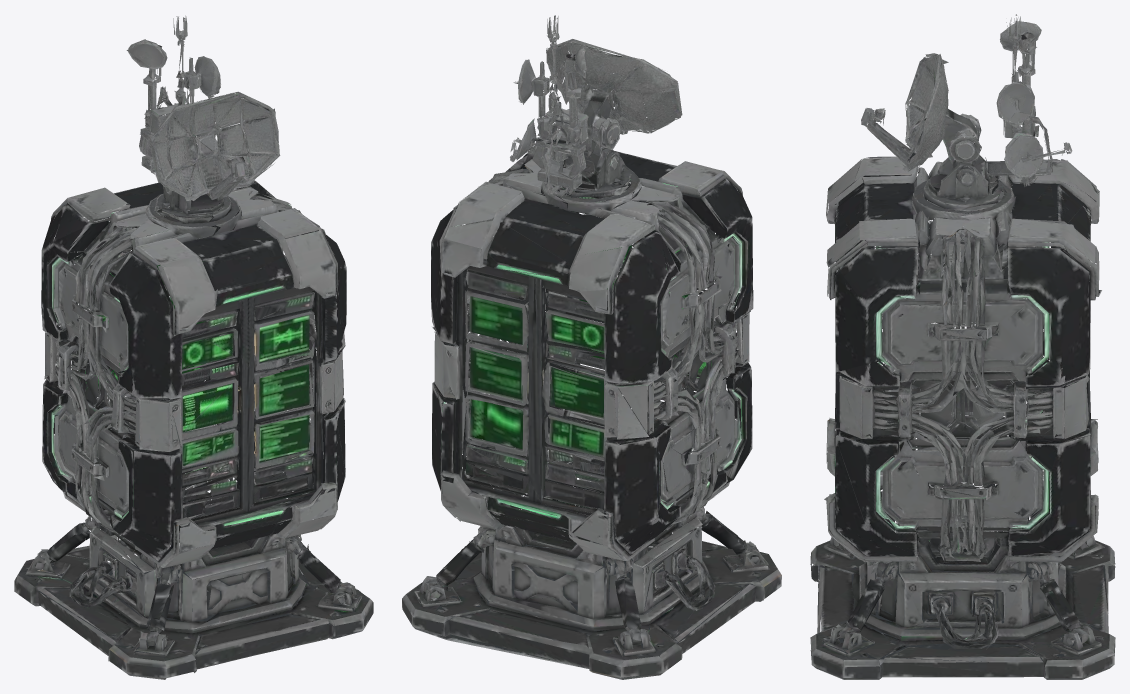
File: tower_uplink.glb
The picture shows the model from 3 angles, left to right: view 1: azimuth 30°, elevation 25°; view 2: azimuth 150°, elevation 25°; view 3: azimuth 270°, elevation 25°; orthographic projection. The views are drawn at different scales.
Visible parts, largest first — view 1: base, head; view 2: base, head; view 3: base, head.
Boxes of the visible parts, x1,y1,x2,y2 form: base: (14,102,373,679); head: (126,15,277,157); base: (402,66,781,679); head: (513,15,679,123); base: (810,76,1115,679); head: (915,14,1041,139).
Size of the model in its own units: 0.7811 by 1.72 by 0.7781.
Materials: 1 (1 with a texture image).
